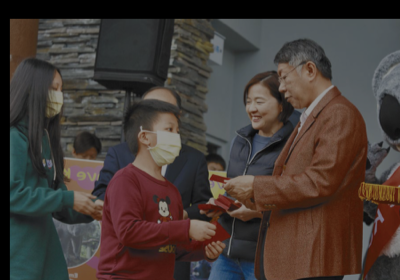with_mask: (146, 120, 181, 166), (42, 80, 63, 119)
without_mask: (275, 67, 308, 109), (243, 93, 276, 129)
